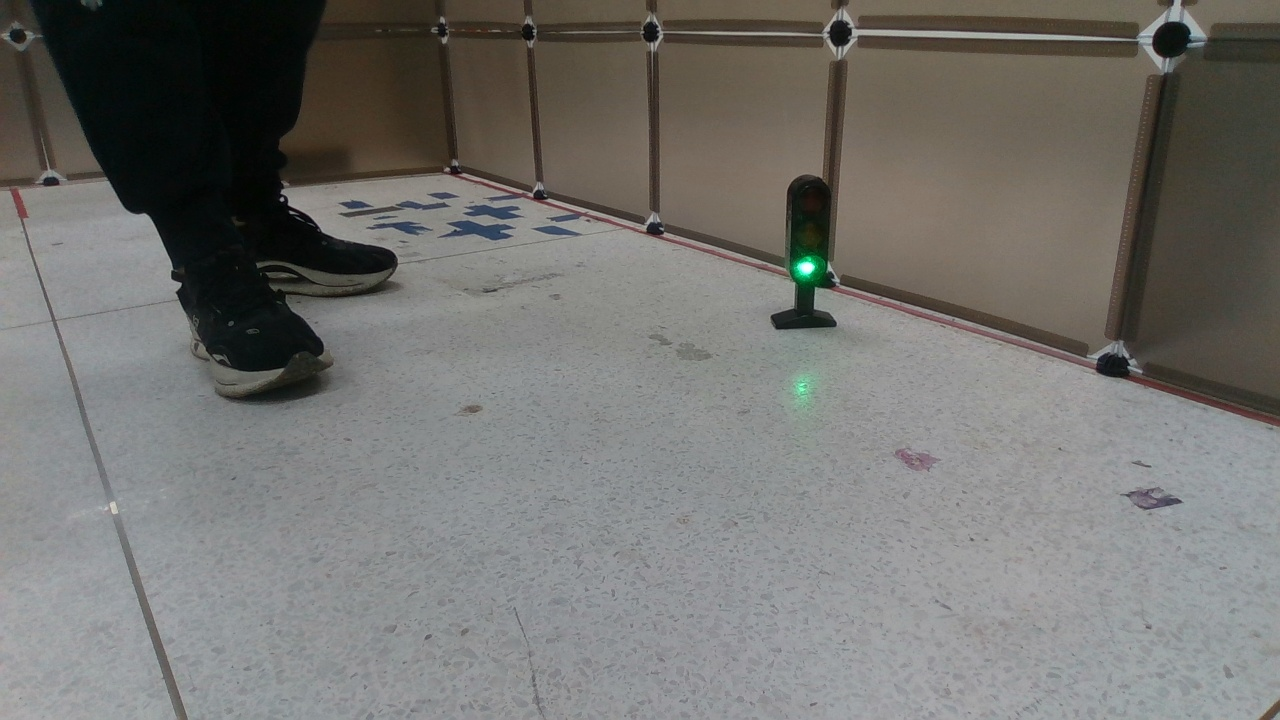Green traffic light: (768, 171, 844, 331)
